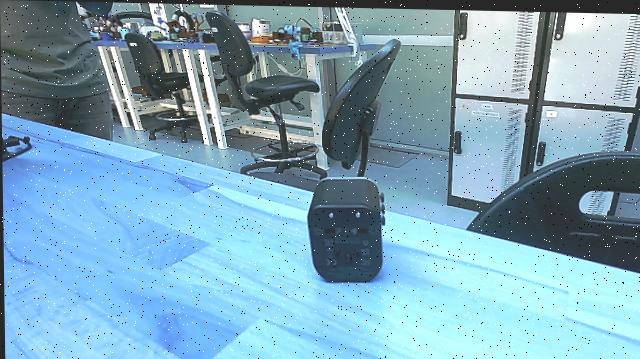adapter: (298, 170, 393, 286)
